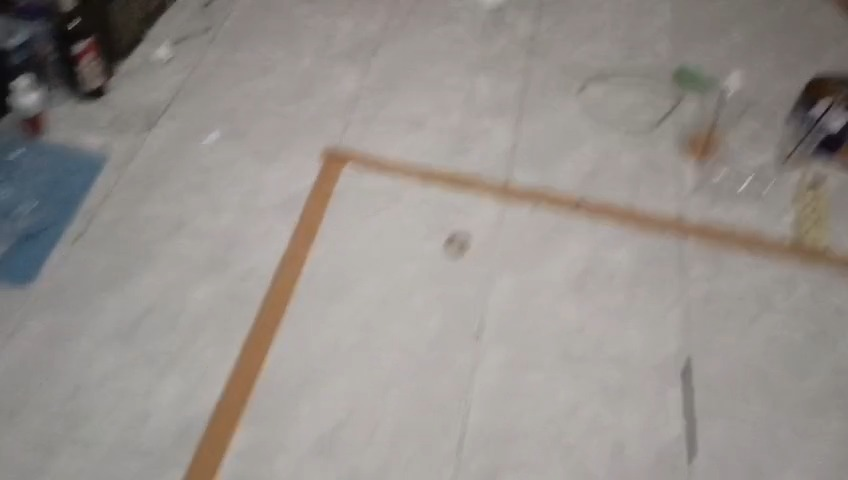floor marking: (183, 149, 847, 479)
